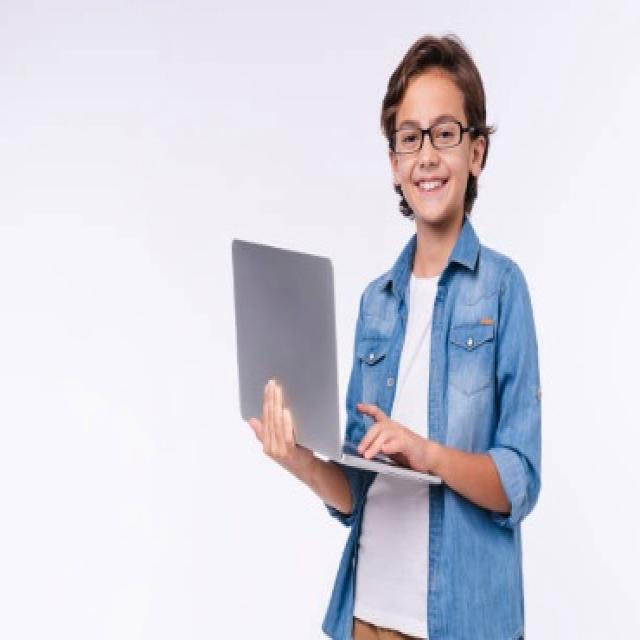child: (233, 2, 548, 640)
